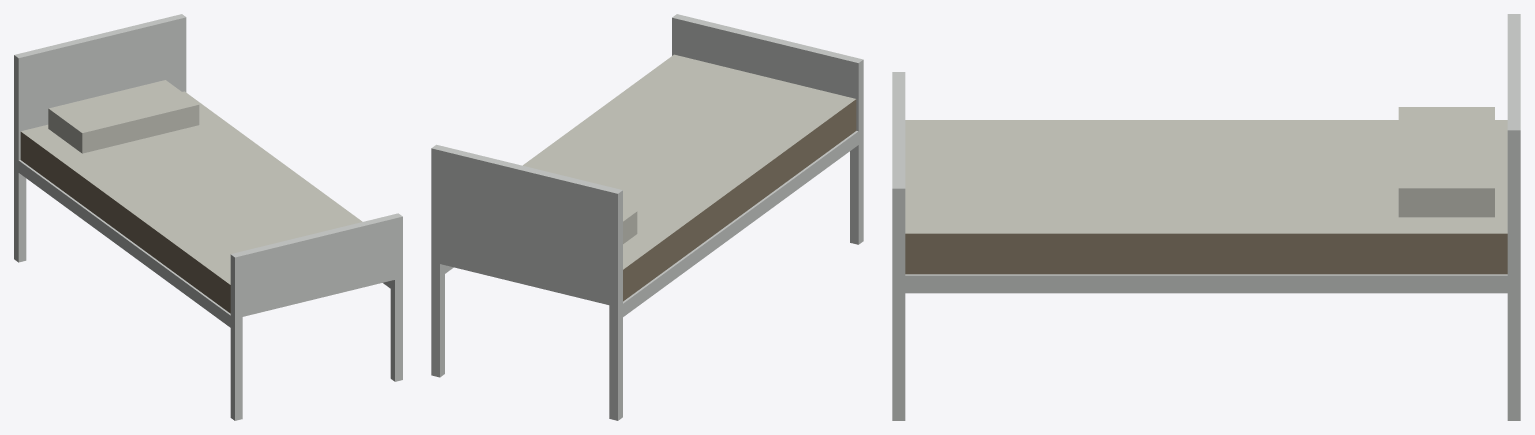
Rendered from prop_bed.glb.
3 renders of one model, left to right at view 1: azimuth 30°, elevation 25°; view 2: azimuth 150°, elevation 25°; view 3: azimuth 270°, elevation 25°, orthographic. The views are drawn at different scales.
Parts seen in each view (by area): view 1: prop_bed; view 2: prop_bed; view 3: prop_bed.
Part boxes in pixels (bbox=[...]): prop_bed: bbox=[14, 14, 402, 420]; prop_bed: bbox=[431, 14, 863, 420]; prop_bed: bbox=[892, 14, 1520, 420].
Size of what is drawn, in the model's own units: 0.86 by 1 by 1.96.
